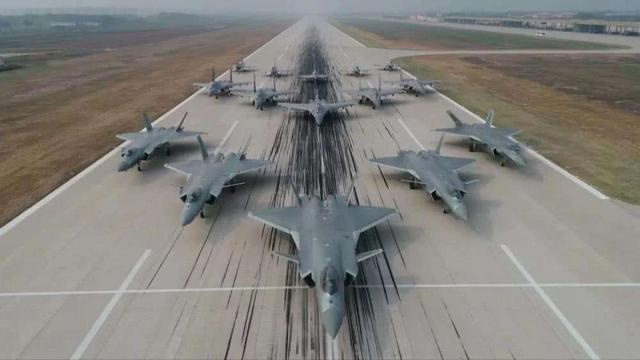airplane: (242, 176, 399, 340), (163, 126, 273, 232), (368, 136, 488, 223), (106, 108, 207, 177), (431, 107, 531, 173), (278, 85, 357, 126), (228, 75, 293, 110), (190, 68, 250, 100), (354, 77, 403, 112), (385, 72, 440, 98), (293, 64, 334, 84), (339, 63, 372, 77), (258, 65, 287, 79), (374, 59, 403, 71)
